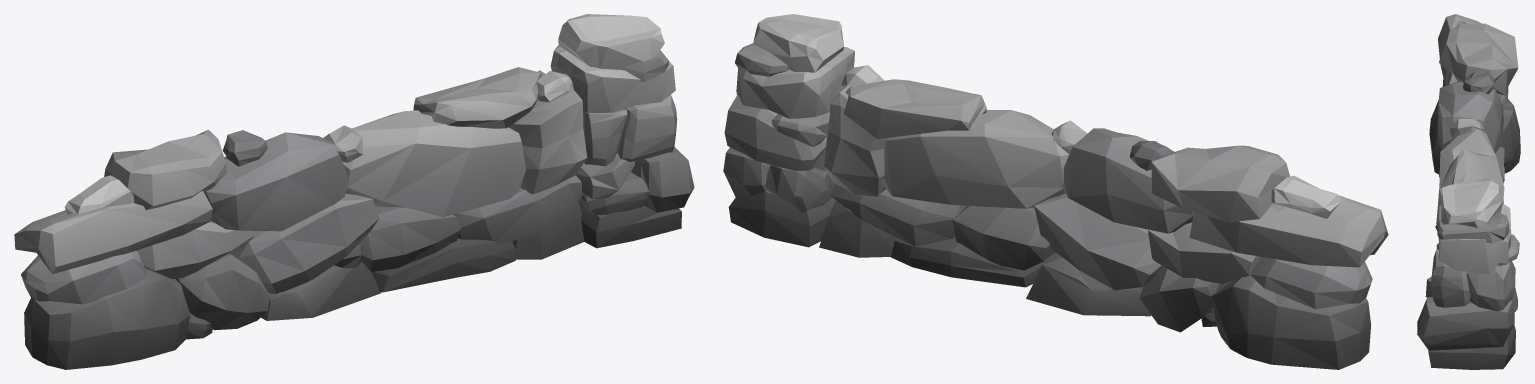
The model's file is RoadFenceStone_Lrg-02.FBX.
The picture shows the model from 3 angles, left to right: view 1: azimuth 30°, elevation 25°; view 2: azimuth 150°, elevation 25°; view 3: azimuth 270°, elevation 25°; orthographic projection. The views are drawn at different scales.
Visible parts, largest first — view 1: RoadFenceStone_Lrg-02; view 2: RoadFenceStone_Lrg-02; view 3: RoadFenceStone_Lrg-02.
Boxes of the visible parts, bbox=[...] form: RoadFenceStone_Lrg-02: bbox=[14, 14, 694, 369]; RoadFenceStone_Lrg-02: bbox=[723, 14, 1388, 369]; RoadFenceStone_Lrg-02: bbox=[1417, 14, 1520, 369].
Bounding box in the file's own units: 436 × 134 × 76.79.
Materials: 1 (1 with a texture image).
